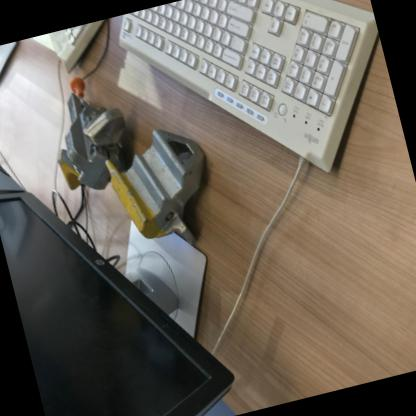Twistlock: (102, 121, 226, 260), (32, 63, 147, 202)
